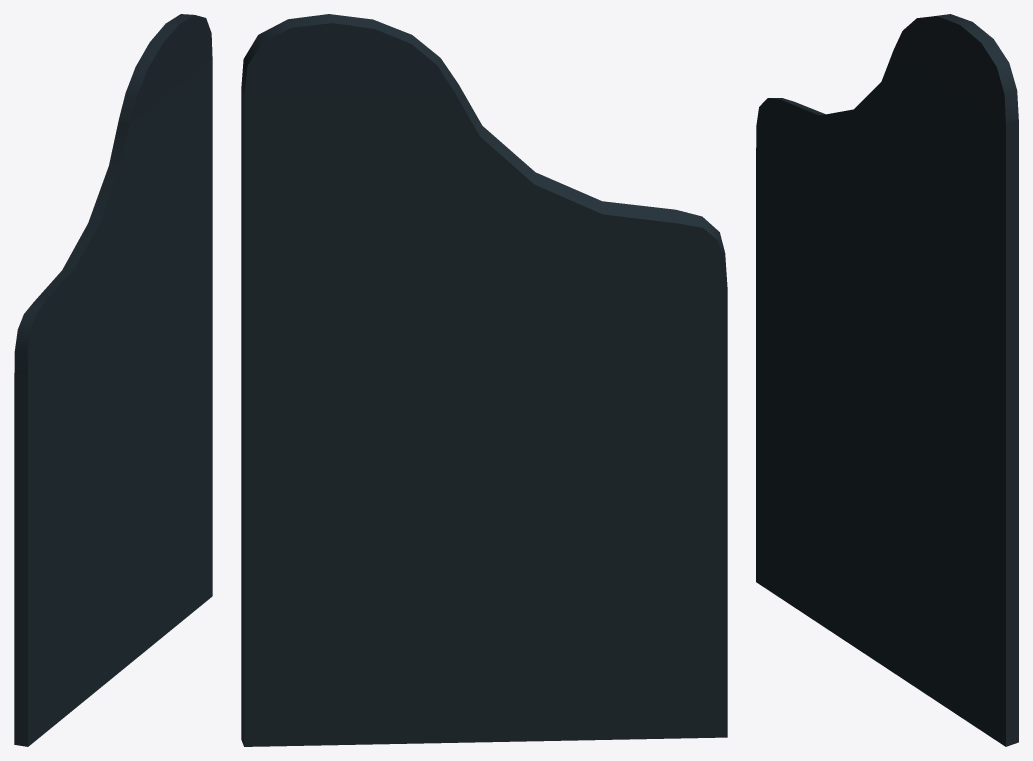
File: puerta_azul.obj
3 renders of one model, left to right at view 1: azimuth 30°, elevation 25°; view 2: azimuth 150°, elevation 25°; view 3: azimuth 270°, elevation 25°, orthographic. The views are drawn at different scales.
Parts seen in each view (by area): view 1: pasted__pCube9 group7; view 2: pasted__pCube9 group7; view 3: pasted__pCube9 group7.
Boxes of the visible parts, x1=… form: pasted__pCube9 group7: x1=14, y1=14, x2=212, y2=746; pasted__pCube9 group7: x1=241, y1=14, x2=727, y2=746; pasted__pCube9 group7: x1=756, y1=14, x2=1018, y2=746.
Bounding box in the file's own units: 6.67 × 12.72 × 4.37.
Materials: 1 (1 with a texture image).
